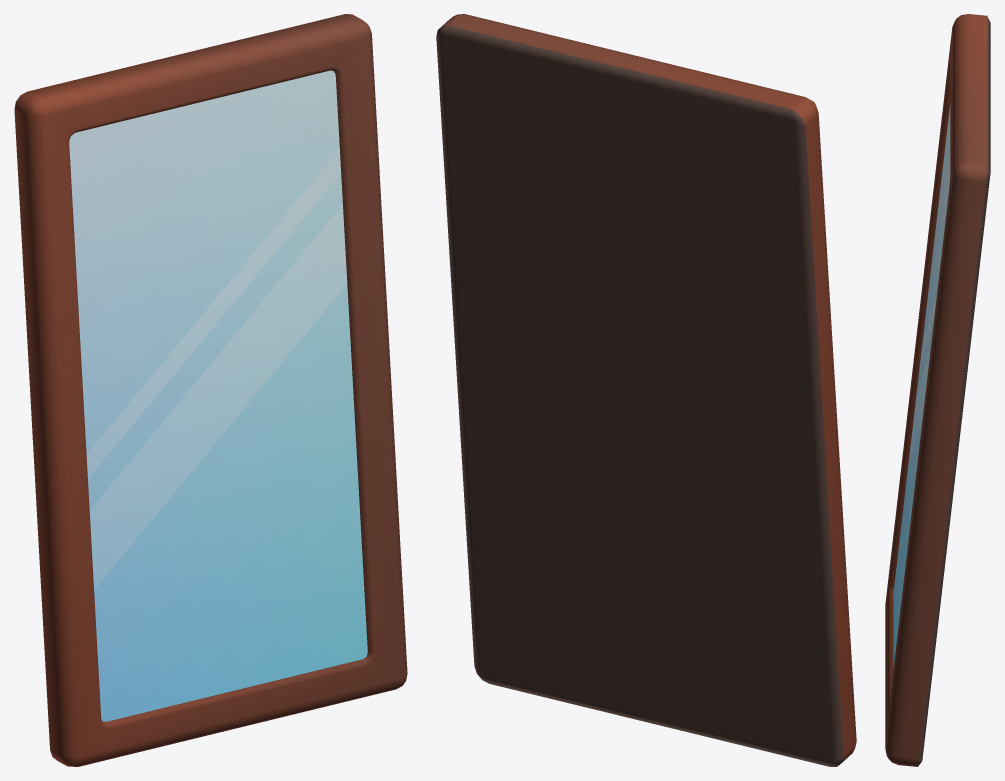
File: Mirror_03.glb
The picture shows the model from 3 angles, left to right: view 1: azimuth 30°, elevation 25°; view 2: azimuth 150°, elevation 25°; view 3: azimuth 270°, elevation 25°; orthographic projection. The views are drawn at different scales.
Visible parts, largest first — view 1: Mirror_03; view 2: Mirror_03; view 3: Mirror_03.
Boxes of the visible parts, x1,y1,x2,y2 form: Mirror_03: (14, 14, 407, 766); Mirror_03: (436, 14, 856, 766); Mirror_03: (885, 14, 990, 766).
Bounding box in the file's own units: 0.8773 × 1.56 × 0.2464.
Materials: 1 (1 with a texture image).
